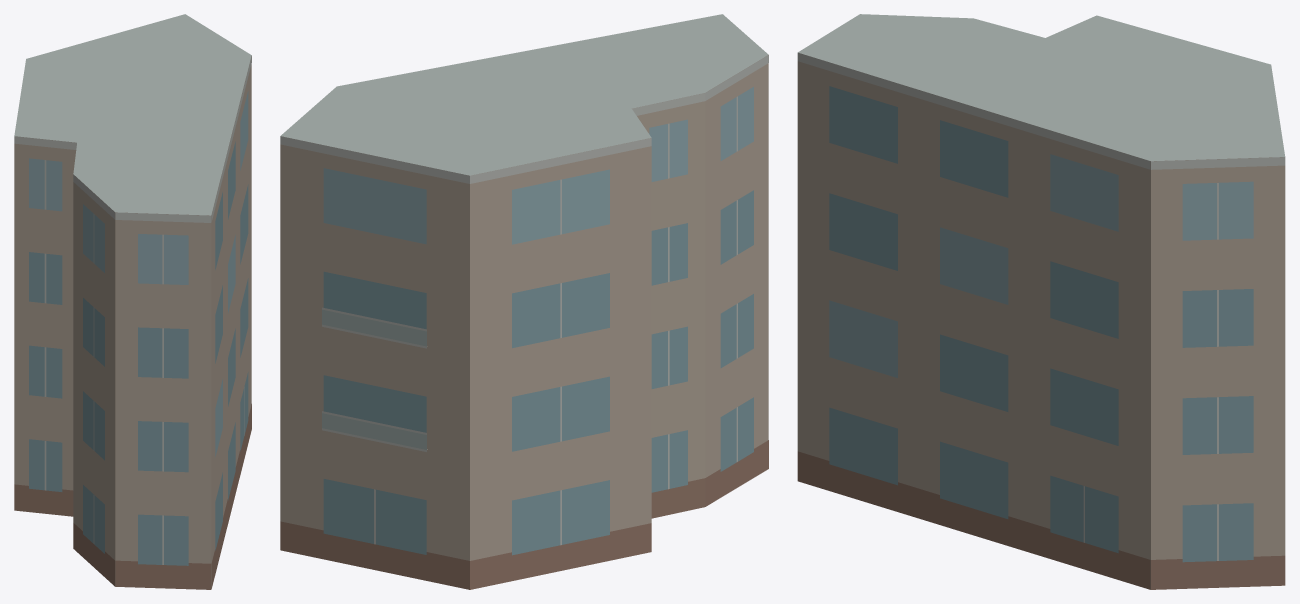
File: survey-upis-33034877.glb
The picture shows the model from 3 angles, left to right: view 1: azimuth 30°, elevation 25°; view 2: azimuth 150°, elevation 25°; view 3: azimuth 270°, elevation 25°; orthographic projection. The views are drawn at different scales.
Parts seen in each view (by area): view 1: survey-upis-33034877.tmp; view 2: survey-upis-33034877.tmp; view 3: survey-upis-33034877.tmp.
Boxes of the visible parts, x1,y1,x2,y2 form: survey-upis-33034877.tmp: (14, 14, 251, 589); survey-upis-33034877.tmp: (280, 14, 768, 589); survey-upis-33034877.tmp: (797, 14, 1285, 589).
Size of the model in its own units: 8.92 by 12.1 by 12.49.
